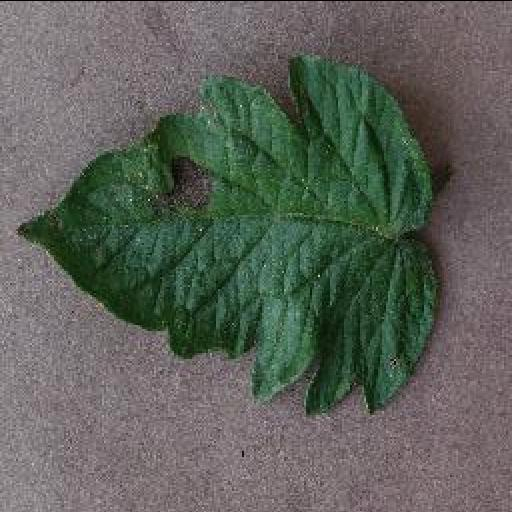Early Blight: (14, 50, 442, 416)
